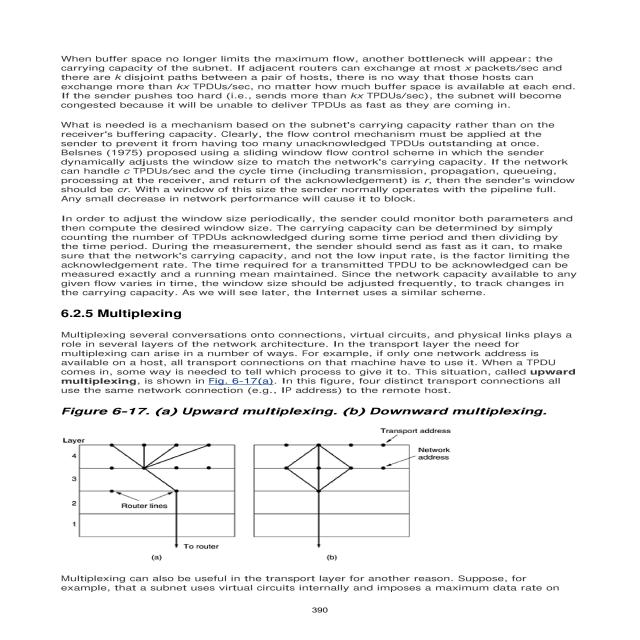diagram: (46, 402, 604, 569)
